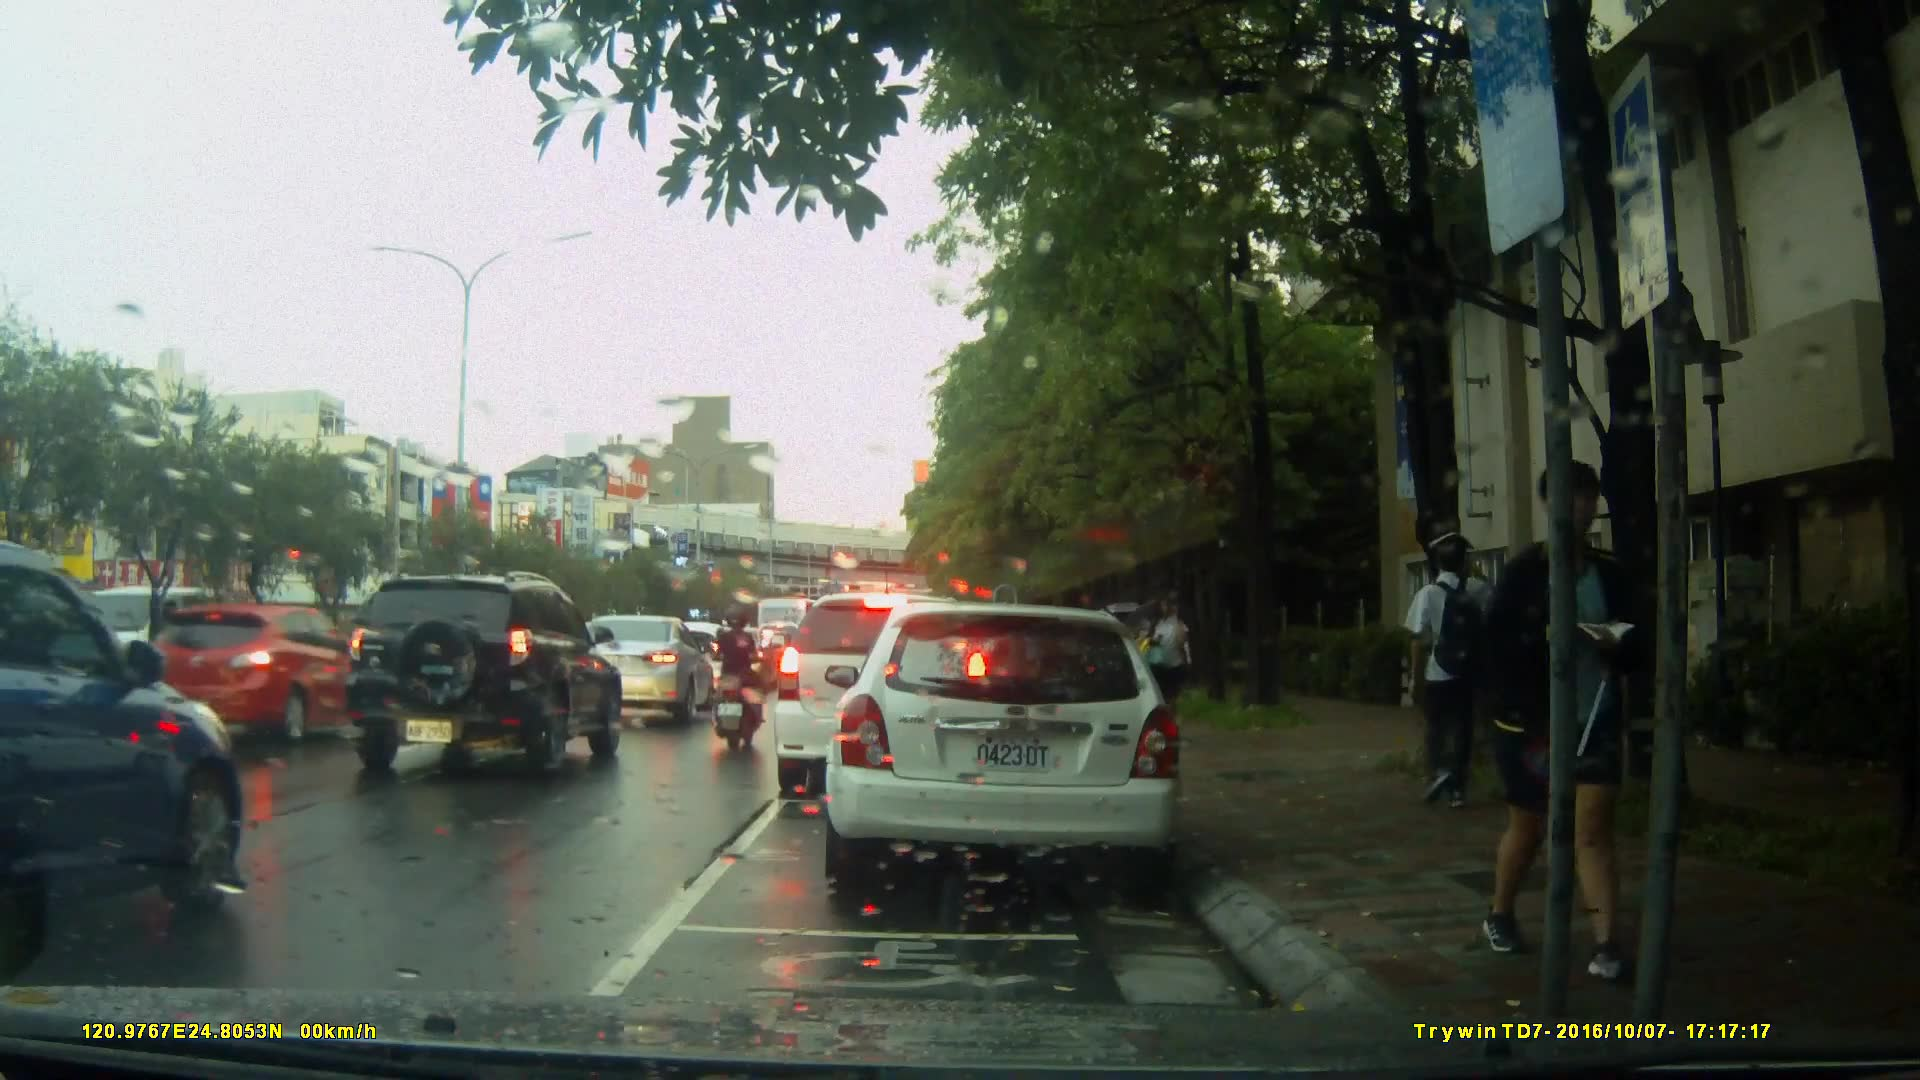pedestrian: (1510, 441, 1666, 962), (1398, 524, 1513, 815), (1140, 588, 1196, 730)
rider: (711, 602, 777, 752)
vehicle: (815, 593, 1201, 901), (1, 546, 248, 949), (336, 569, 627, 782), (771, 590, 995, 802), (140, 603, 382, 751), (547, 613, 709, 733)
